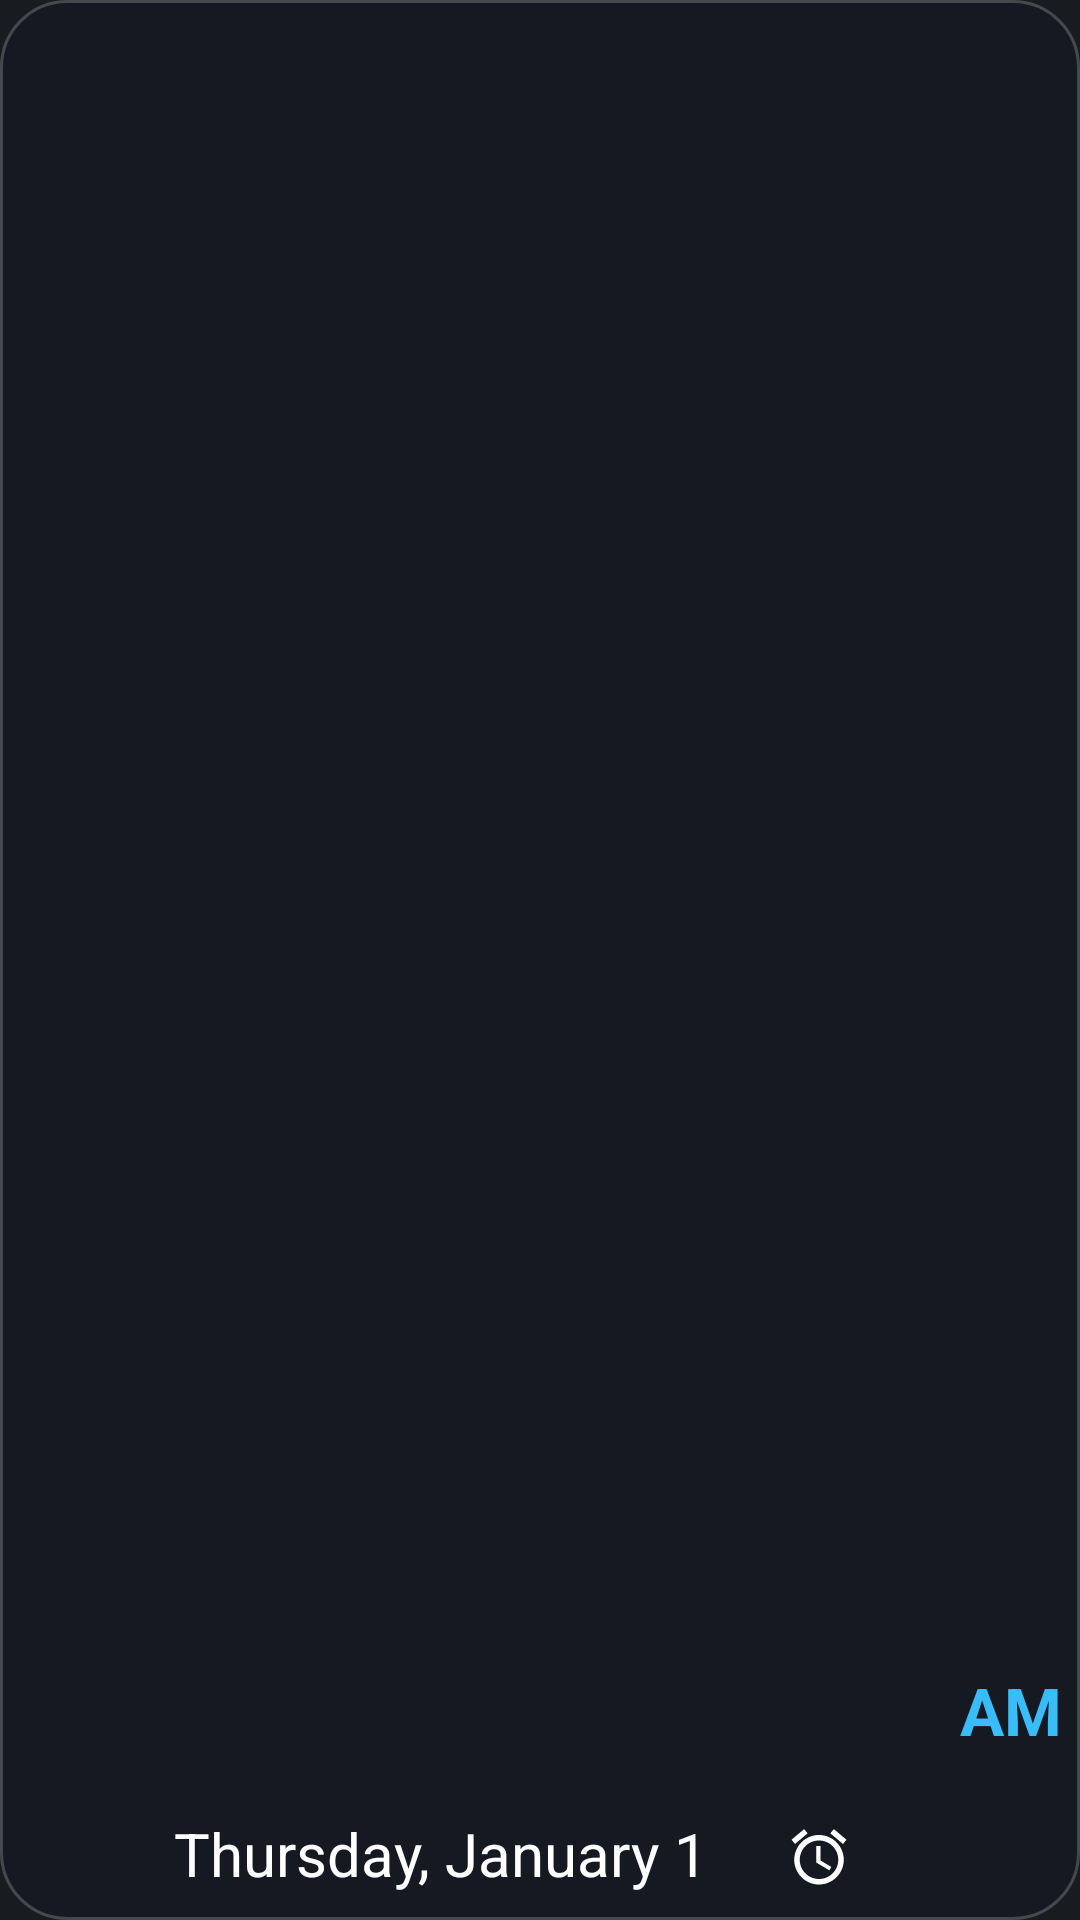

Screen size 1080*1920. Icon name, then its box in pixels as (x1, y1, x2, y2):
Next alarm: (791, 1829, 847, 1885)
